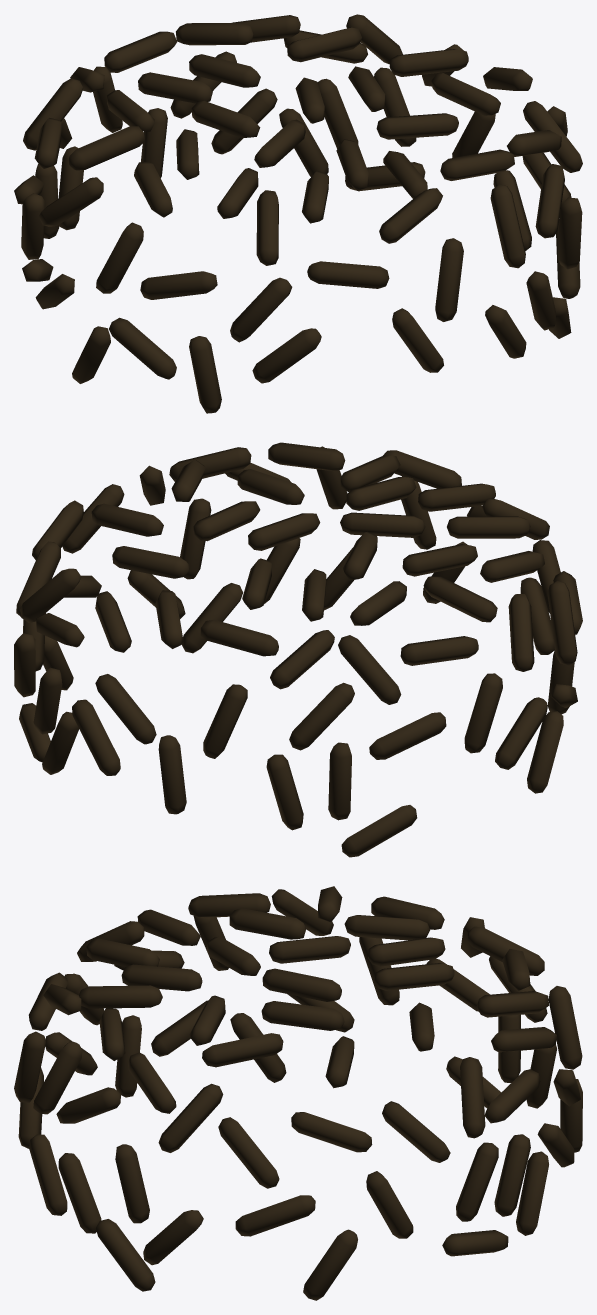
Rendered from MM_Hank_Hair.fbx.
3 views of the same model, one above another, from view 1: azimuth 30°, elevation 25°; view 2: azimuth 150°, elevation 25°; view 3: azimuth 270°, elevation 25° (orthographic).
Parts seen in each view (by area): view 1: MM_Hank_Hair; view 2: MM_Hank_Hair; view 3: MM_Hank_Hair.
Part boxes in pixels (x1=…): MM_Hank_Hair: x1=14, y1=14, x2=582, y2=413; MM_Hank_Hair: x1=14, y1=442, x2=582, y2=857; MM_Hank_Hair: x1=14, y1=886, x2=582, y2=1300.
Size of the model in its own units: 21.61 by 9.65 by 21.35.
